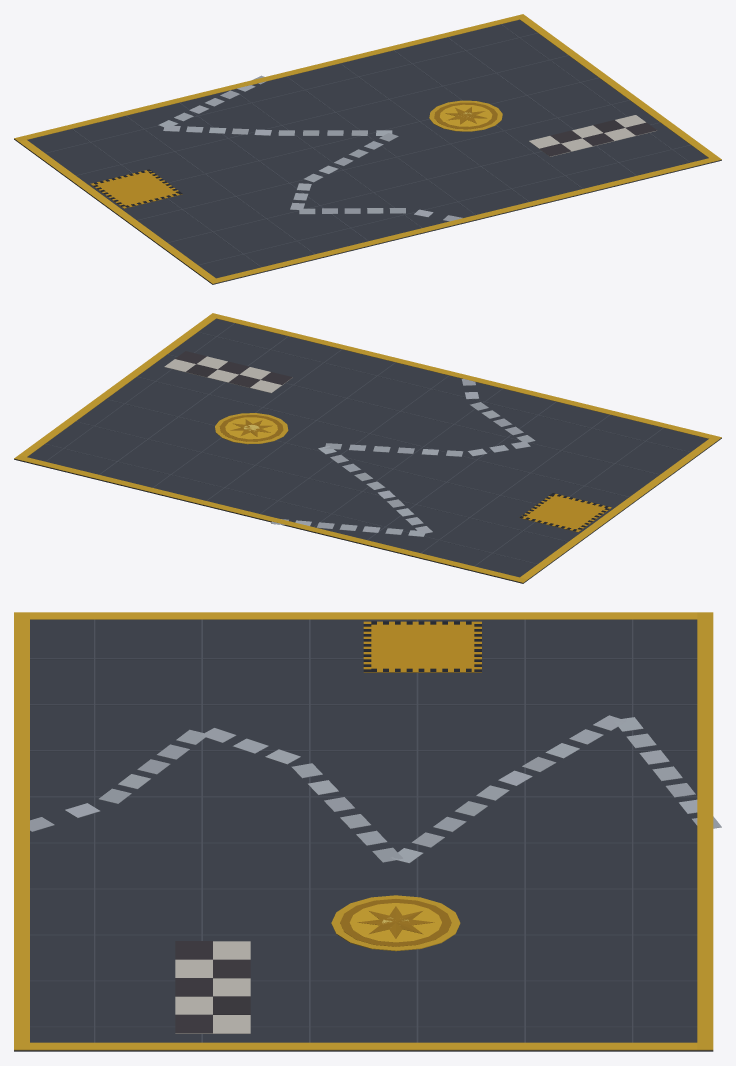
The model's file is Decor_GoldVault_Floor.fbx.
The picture shows the model from 3 angles, top to bottom: view 1: azimuth 30°, elevation 25°; view 2: azimuth 150°, elevation 25°; view 3: azimuth 270°, elevation 25°; orthographic projection. The views are drawn at different scales.
Visible parts, largest first — view 1: Floor_Body; view 2: Floor_Body; view 3: Floor_Body.
Boxes of the visible parts, x1=… form: Floor_Body: x1=14, y1=14, x2=721, y2=284; Floor_Body: x1=14, y1=313, x2=721, y2=583; Floor_Body: x1=14, y1=612, x2=721, y2=1051.
Size of the model in its own units: 190 by 0.54 by 130.
